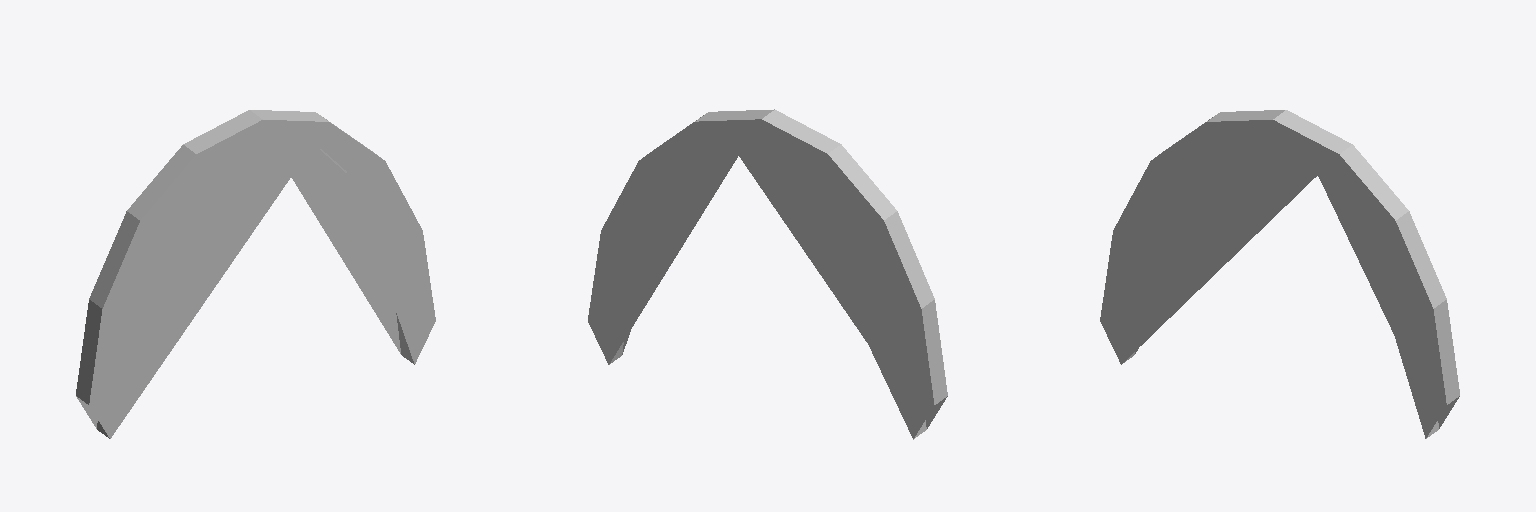
Rendered from pailhandle.obj.
3 views of the same model, side by side, from view 1: azimuth 30°, elevation 25°; view 2: azimuth 150°, elevation 25°; view 3: azimuth 330°, elevation 25° (orthographic).
Parts seen in each view (by area): view 1: Handle_Cylinder.002; view 2: Handle_Cylinder.002; view 3: Handle_Cylinder.002.
Boxes of the visible parts, box(x1,y1,x2,y2) form: Handle_Cylinder.002: box(76, 110, 435, 438); Handle_Cylinder.002: box(588, 109, 947, 439); Handle_Cylinder.002: box(1100, 110, 1459, 438).
Bounding box in the file's own units: 1.97 × 1.53 × 0.1366.